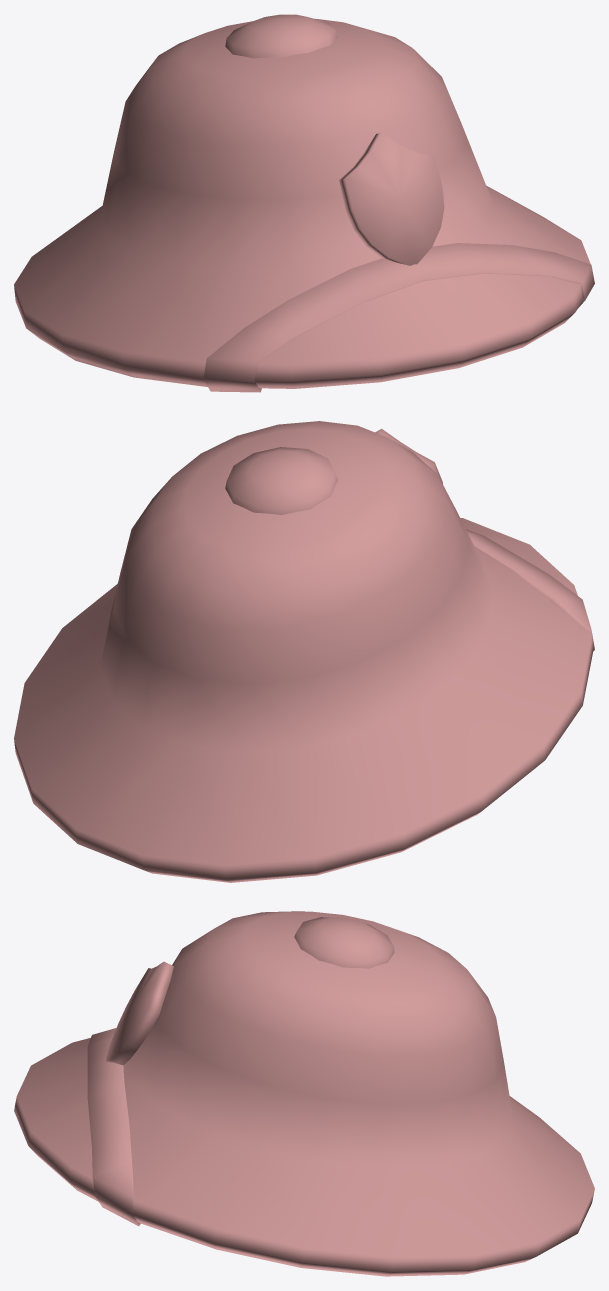
File: hat_001.fbx
3 renders of one model, top to bottom at view 1: azimuth 30°, elevation 25°; view 2: azimuth 150°, elevation 25°; view 3: azimuth 270°, elevation 25°, orthographic. The views are drawn at different scales.
Visible parts, largest first — view 1: hat_001_m; view 2: hat_001_m; view 3: hat_001_m.
Part boxes in pixels (left/top/right/bottom): hat_001_m: left=14, top=14, right=594, bottom=392; hat_001_m: left=14, top=421, right=594, bottom=882; hat_001_m: left=14, top=911, right=594, bottom=1276.
Size of the model in its own units: 20.82 by 13.09 by 24.15.
